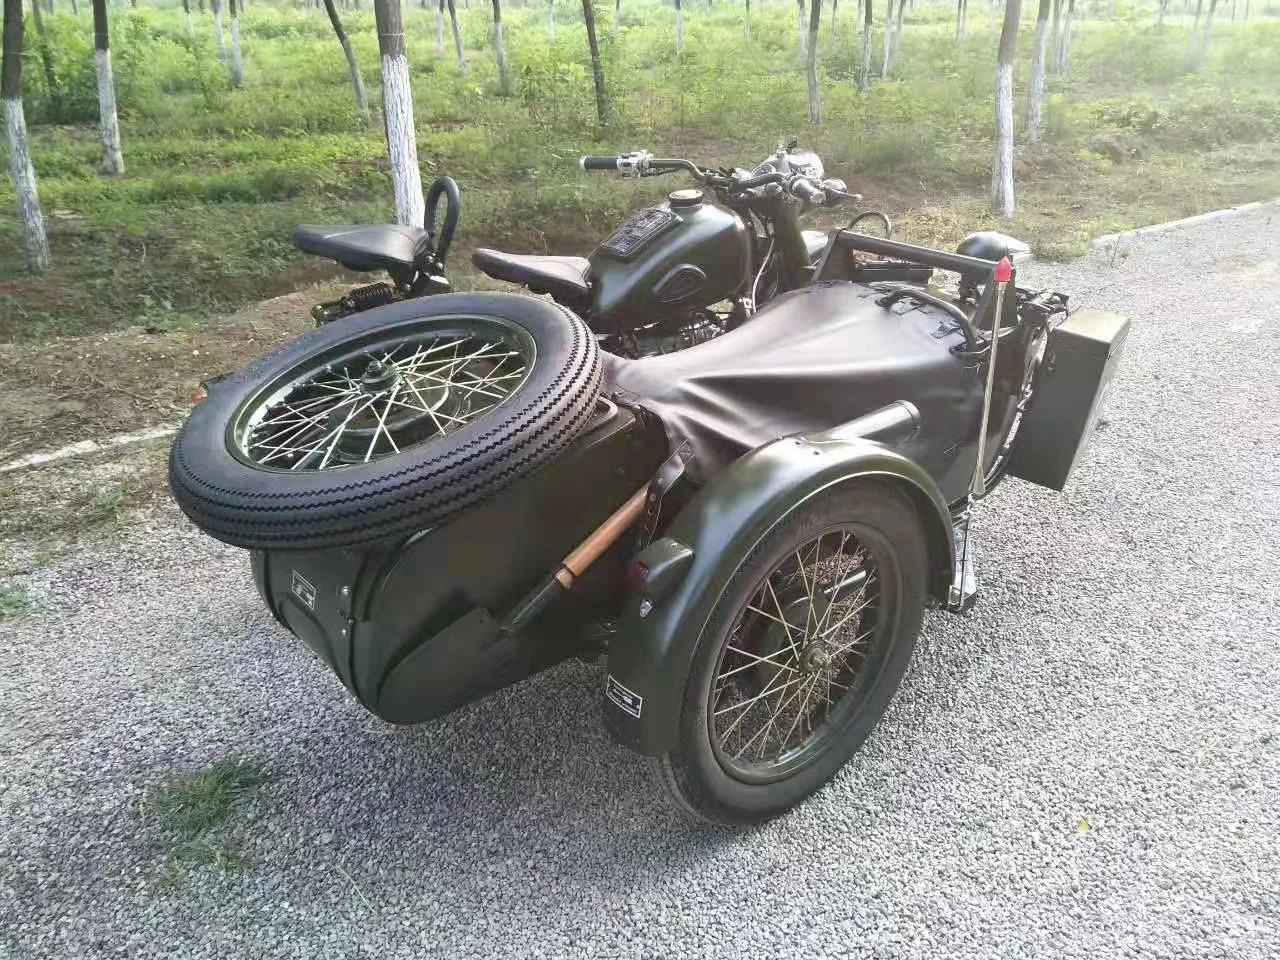bike: (164, 141, 1137, 833)
